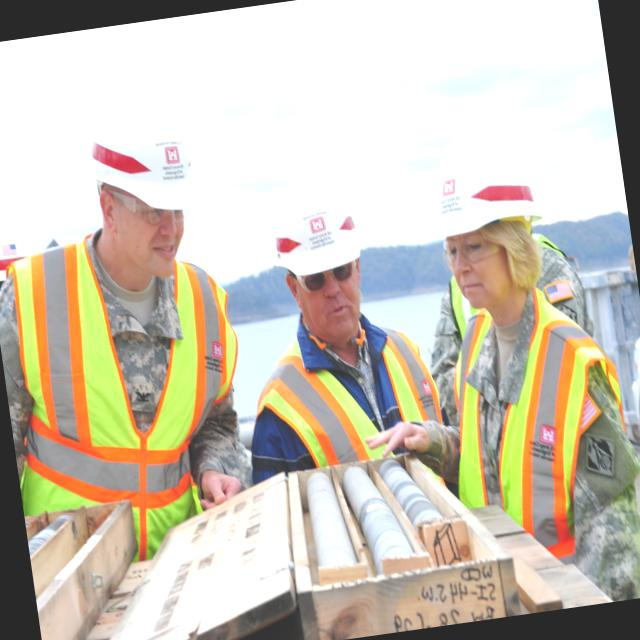goggles: (100, 168, 200, 237), (438, 229, 512, 269), (290, 258, 364, 295)
helmet: (81, 88, 212, 224), (417, 118, 546, 242), (262, 169, 368, 283)
vest: (0, 222, 258, 564), (430, 265, 636, 568), (243, 298, 437, 494)
